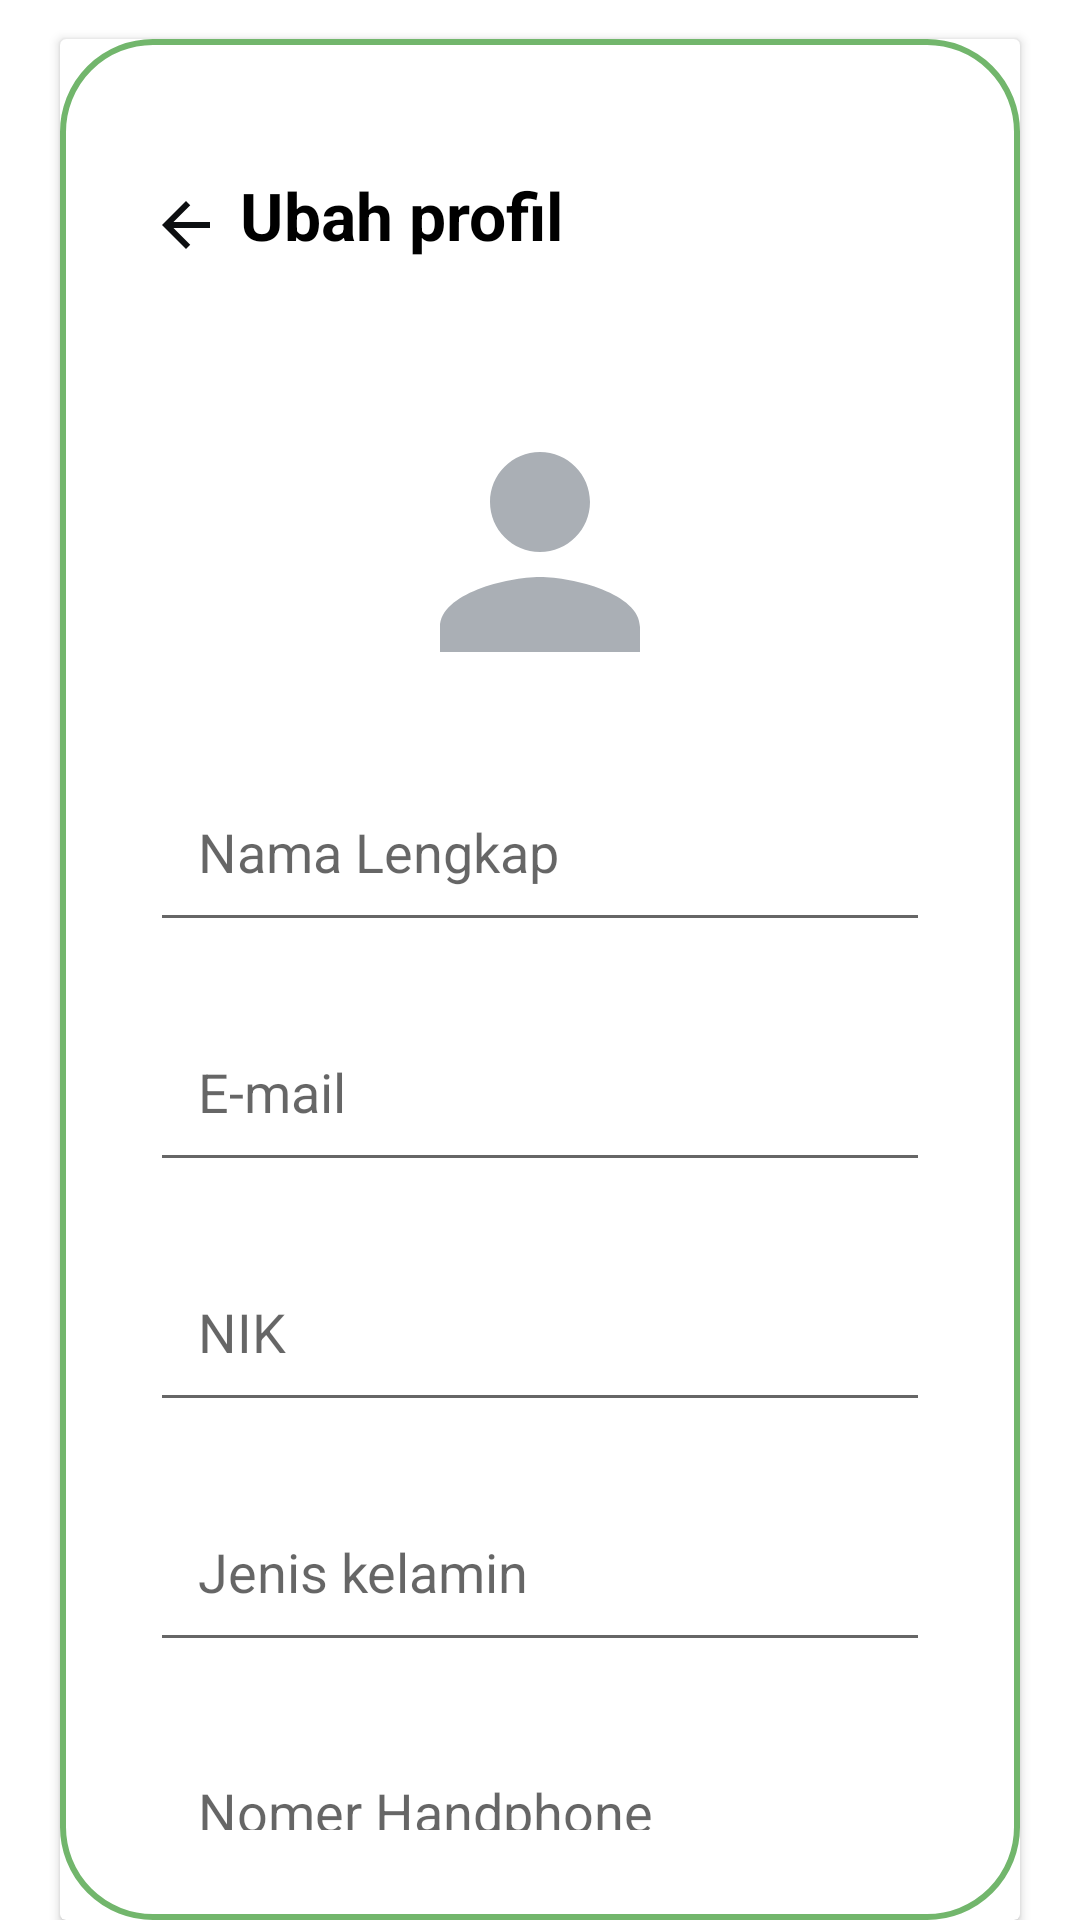

Icons on this 1080px×1920px Android screen, each with the point to tap as [x,y]:
kembali: [186,225]
person: [540,552]
